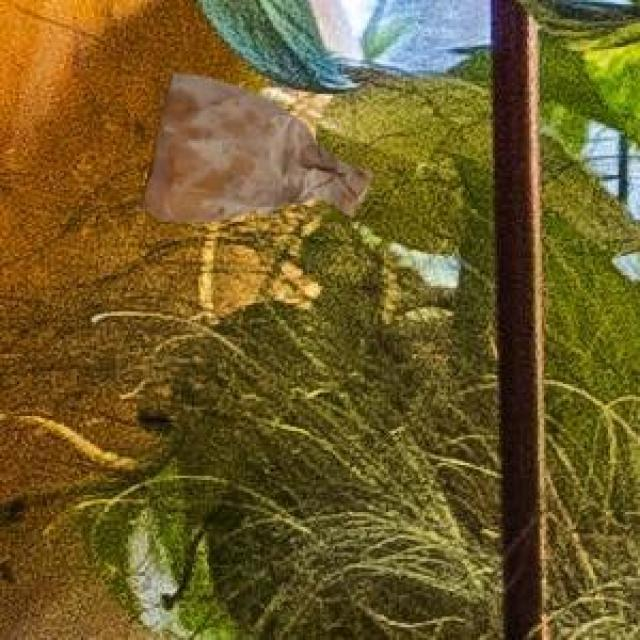paper: (134, 68, 369, 218)
